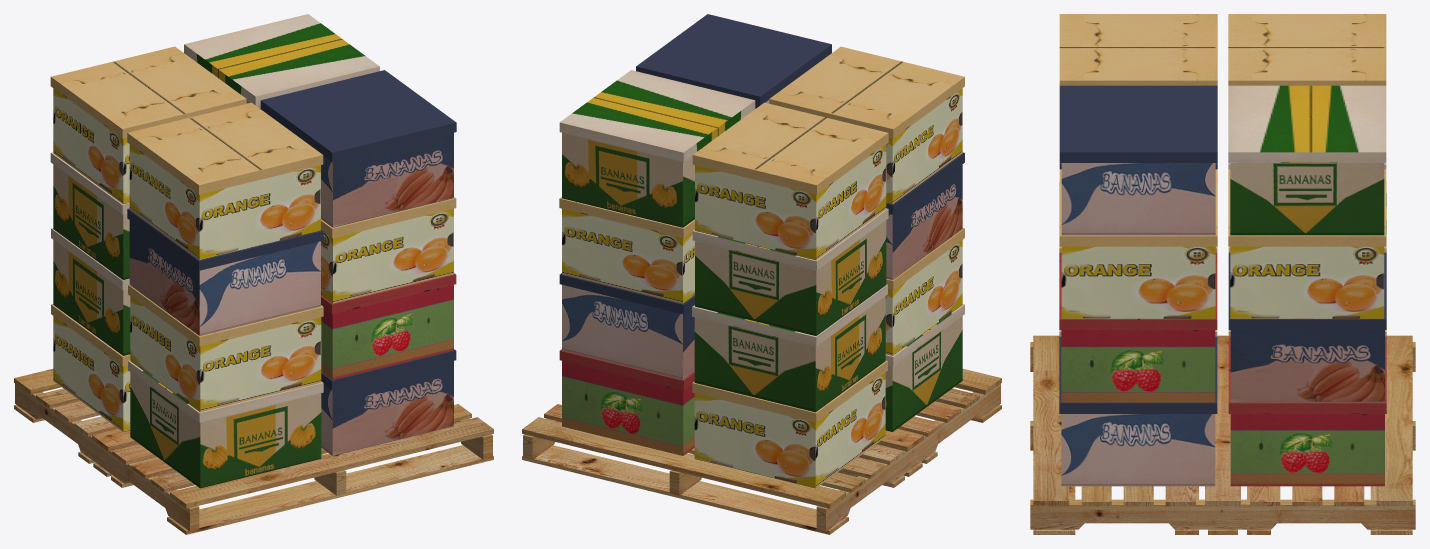
Rendered from Cardboard_boxGroup02a.glb.
3 renders of one model, left to right at view 1: azimuth 30°, elevation 25°; view 2: azimuth 150°, elevation 25°; view 3: azimuth 270°, elevation 25°, orthographic. The views are drawn at different scales.
Visible parts, largest first — view 1: Cardboard_boxGroup02a2, Cardboard_boxGroup02a1, Cardboard_boxG02a; view 2: Cardboard_boxGroup02a2, Cardboard_boxGroup02a1, Cardboard_boxG02a; view 3: Cardboard_boxGroup02a1, Cardboard_boxGroup02a2, Cardboard_boxG02a.
Boxes of the visible parts, left/top/right/bottom form: Cardboard_boxGroup02a2: left=50, top=14, right=456, bottom=488; Cardboard_boxGroup02a1: left=127, top=70, right=456, bottom=455; Cardboard_boxG02a: left=14, top=369, right=493, bottom=534; Cardboard_boxGroup02a2: left=559, top=46, right=964, bottom=488; Cardboard_boxGroup02a1: left=559, top=14, right=964, bottom=455; Cardboard_boxG02a: left=522, top=369, right=1001, bottom=534; Cardboard_boxGroup02a1: left=1059, top=85, right=1386, bottom=486; Cardboard_boxGroup02a2: left=1059, top=14, right=1386, bottom=336; Cardboard_boxG02a: left=1030, top=335, right=1415, bottom=534.
Bounding box in the file's own units: 2.16 × 2.24 × 2.12.
Materials: 3 (3 with a texture image).
